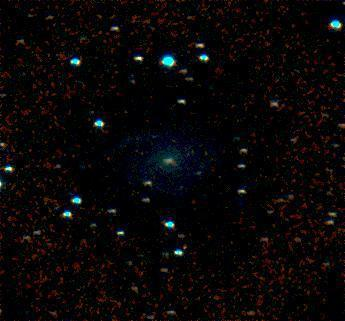star: (187, 160, 217, 190)
